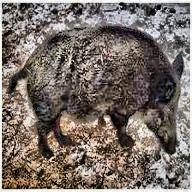boar: (0, 7, 192, 164)
